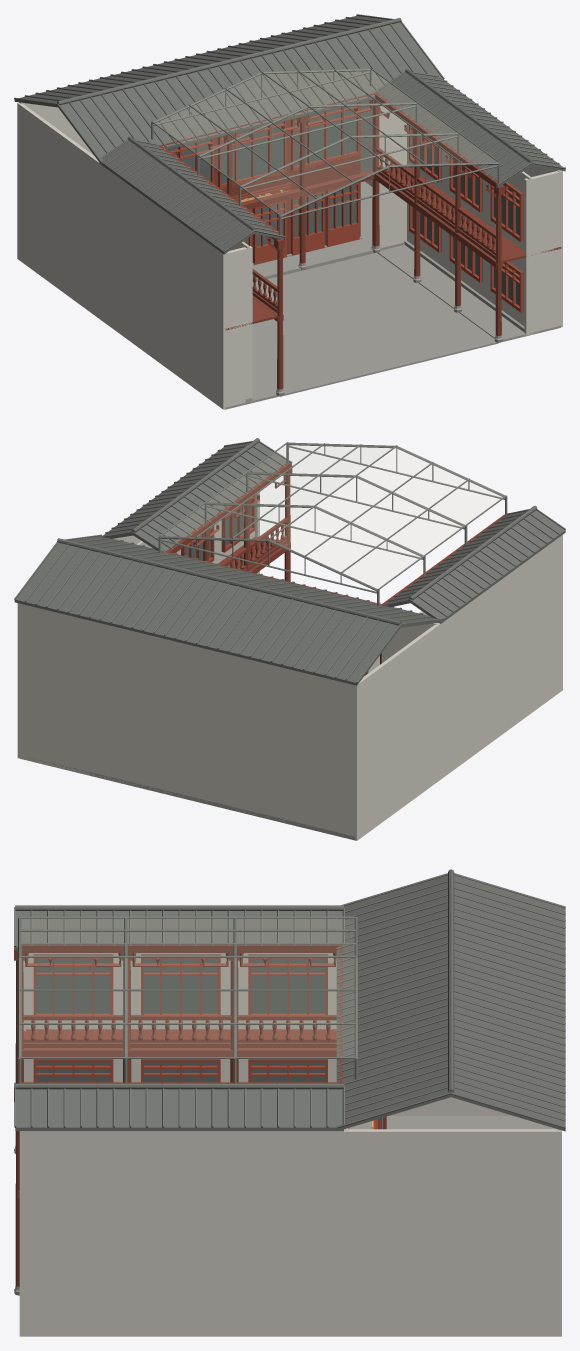
File: huangpu-cixiu-nunnery-courtyard-lod.glb
3 views of the same model, one above another, from view 1: azimuth 30°, elevation 25°; view 2: azimuth 150°, elevation 25°; view 3: azimuth 270°, elevation 25° (orthographic). The views are drawn at different scales.
Parts seen in each view (by area): view 1: 慈修庵正院北殿与两厢木廊; view 2: 慈修庵正院北殿与两厢木廊; view 3: 慈修庵正院北殿与两厢木廊.
Boxes of the visible parts, bbox=[...] form: 慈修庵正院北殿与两厢木廊: bbox=[14, 14, 565, 409]; 慈修庵正院北殿与两厢木廊: bbox=[14, 438, 565, 840]; 慈修庵正院北殿与两厢木廊: bbox=[14, 869, 565, 1336].
Bounding box in the file's own units: 14.31 × 8.18 × 15.12.
